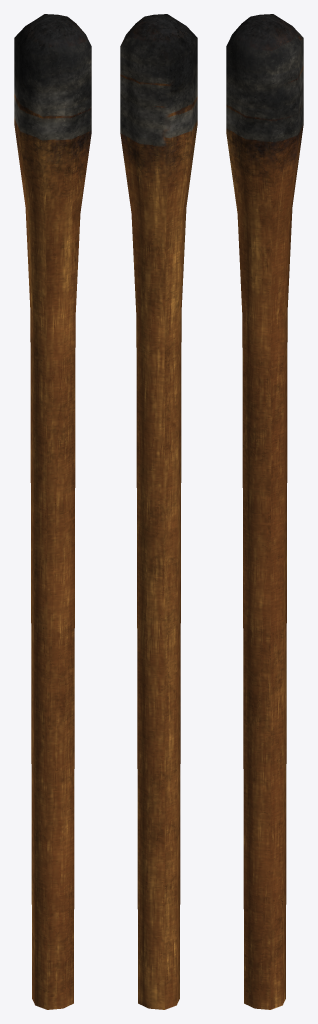
The model's file is torche.fbx.
3 renders of one model, left to right at view 1: azimuth 30°, elevation 25°; view 2: azimuth 150°, elevation 25°; view 3: azimuth 330°, elevation 25°, orthographic.
Visible parts, largest first — view 1: torche; view 2: torche; view 3: torche.
Part boxes in pixels (left/top/right/bottom): torche: left=14, top=14, right=91, bottom=1009; torche: left=120, top=14, right=197, bottom=1009; torche: left=226, top=14, right=303, bottom=1009.
Bounding box in the file's own units: 13.17 × 190 × 13.17.
1 material, 1 textured.
